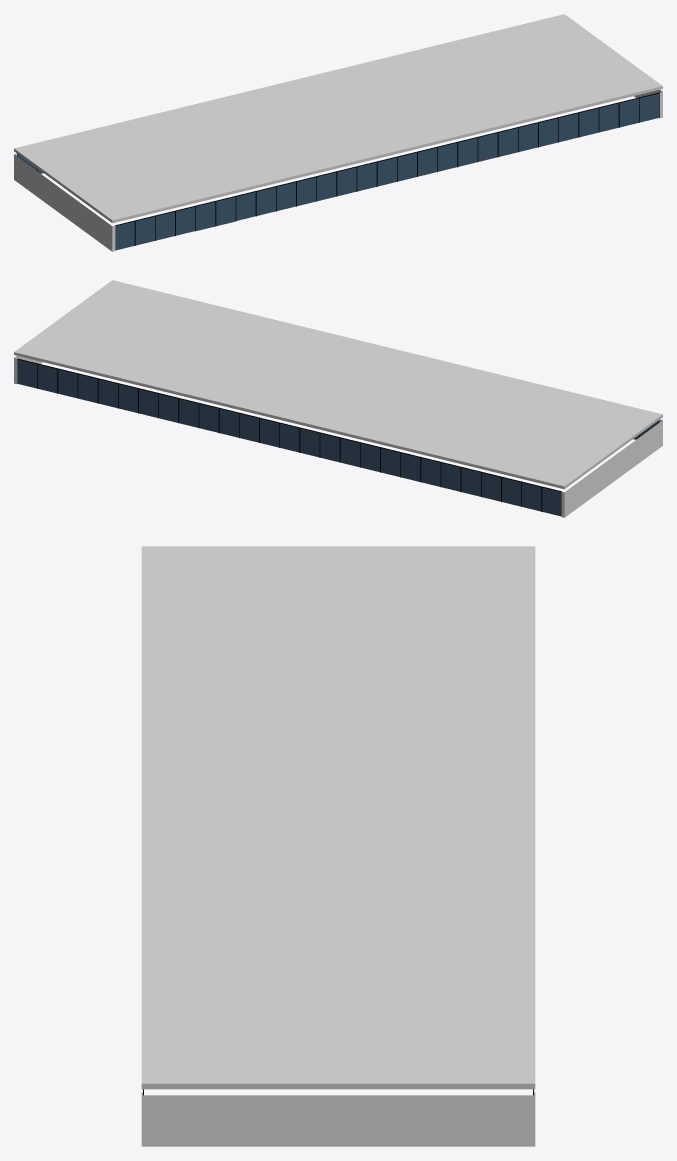
Rendered from BGC 7.fbx.
The picture shows the model from 3 angles, top to bottom: view 1: azimuth 30°, elevation 25°; view 2: azimuth 150°, elevation 25°; view 3: azimuth 270°, elevation 25°; orthographic projection. The views are drawn at different scales.
Visible parts, largest first — view 1: BGC7_Roof, BGC7_Frame_Windows, BGC7_Base_Main1, BGC7_Base_Frame; view 2: BGC7_Roof, BGC7_Frame_Windows, BGC7_Base_Main1, BGC7_Base_Frame; view 3: BGC7_Roof, BGC7_Base_Main2.
Boxes of the visible parts, bbox=[...] form: BGC7_Roof: bbox=[14, 14, 662, 223]; BGC7_Frame_Windows: bbox=[17, 93, 659, 250]; BGC7_Base_Main1: bbox=[14, 153, 115, 251]; BGC7_Base_Frame: bbox=[17, 92, 659, 245]; BGC7_Roof: bbox=[14, 280, 662, 489]; BGC7_Frame_Windows: bbox=[17, 359, 659, 516]; BGC7_Base_Main1: bbox=[561, 419, 662, 517]; BGC7_Base_Frame: bbox=[17, 358, 659, 511]; BGC7_Roof: bbox=[141, 546, 535, 1089]; BGC7_Base_Main2: bbox=[141, 1092, 535, 1146].
Size of the model in its own units: 5860 by 320 by 1815.
